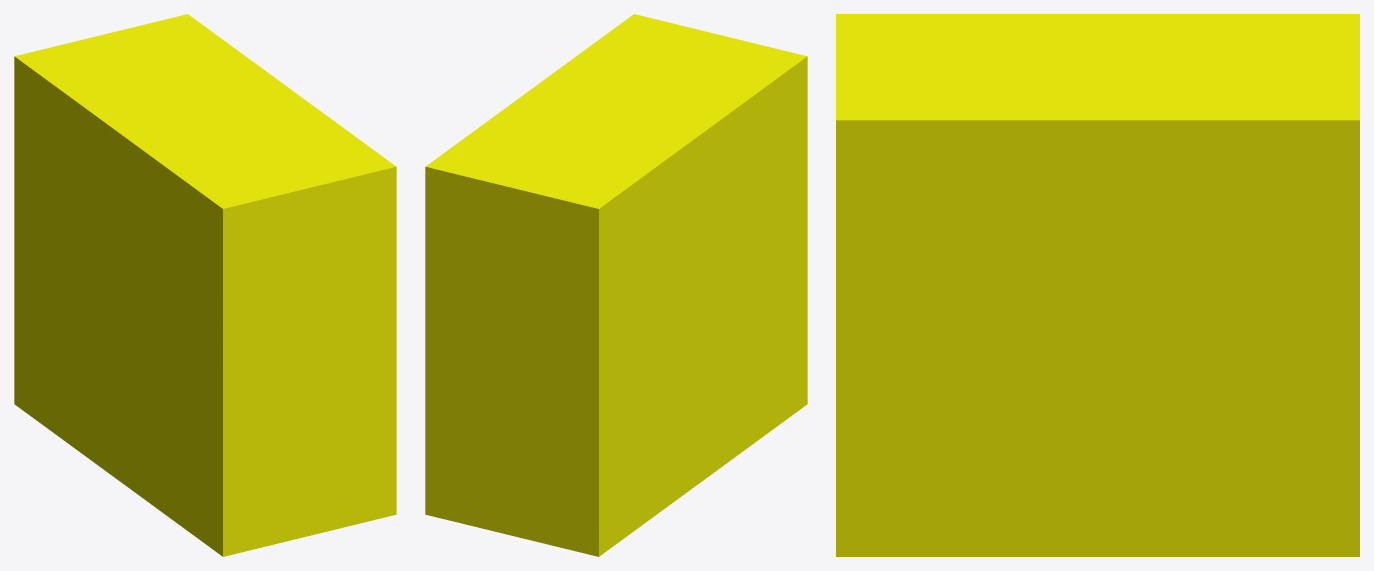
Rendered from sm_hana_swgr_i_1200x2500x2300_2d.glb.
The picture shows the model from 3 angles, left to right: view 1: azimuth 30°, elevation 25°; view 2: azimuth 150°, elevation 25°; view 3: azimuth 270°, elevation 25°; orthographic projection. The views are drawn at different scales.
Parts seen in each view (by area): view 1: sm_hana_swgr_i_1200x2500x2300_2d; view 2: sm_hana_swgr_i_1200x2500x2300_2d; view 3: sm_hana_swgr_i_1200x2500x2300_2d.
Boxes of the visible parts, x1=… form: sm_hana_swgr_i_1200x2500x2300_2d: x1=14, y1=14, x2=396, y2=556; sm_hana_swgr_i_1200x2500x2300_2d: x1=425, y1=14, x2=807, y2=556; sm_hana_swgr_i_1200x2500x2300_2d: x1=836, y1=14, x2=1359, y2=556.
Bounding box in the file's own units: 1.2 × 2.3 × 2.5.
1 material, 1 textured.
